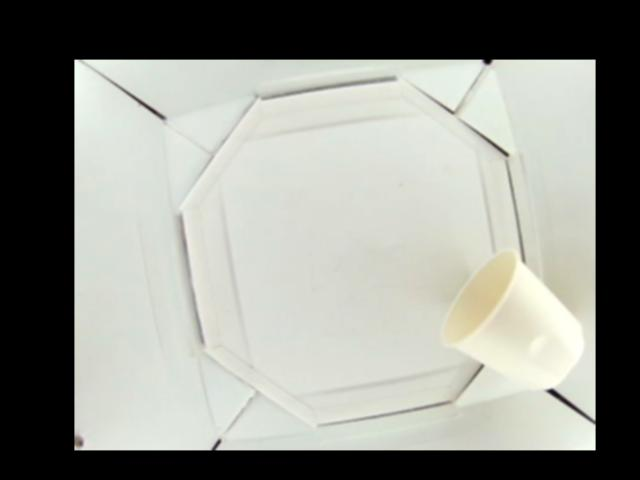Cup: (441, 248, 586, 391)
